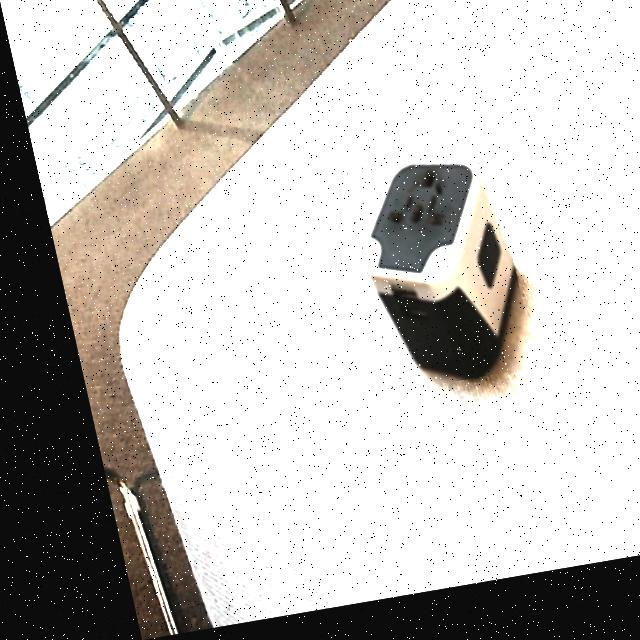adapter: (332, 162, 517, 403)
